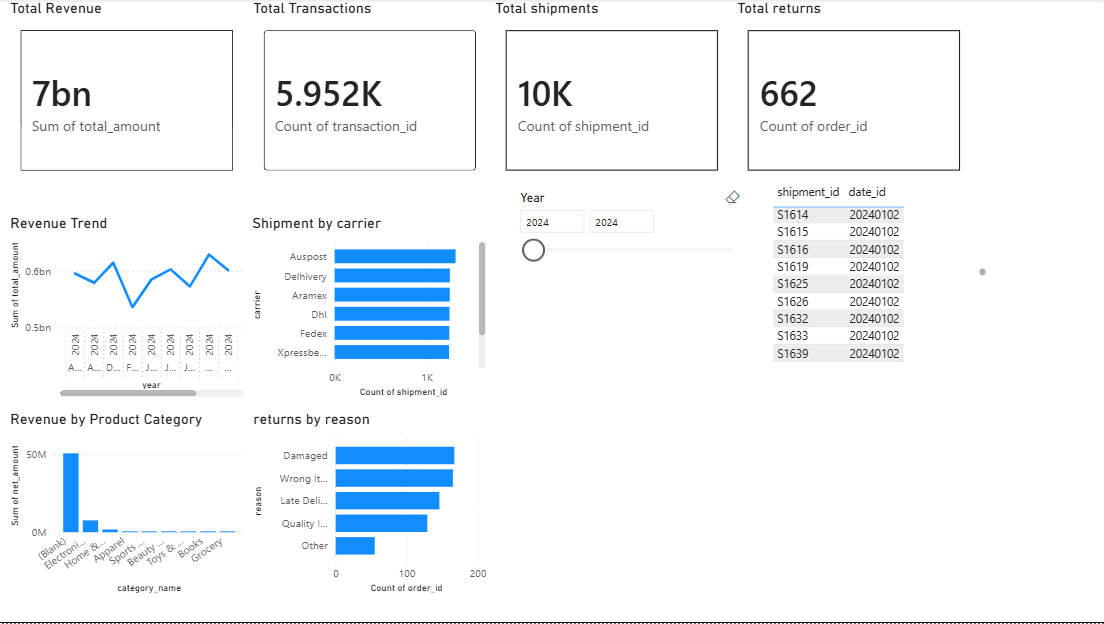

This screenshot's page, from the dashboard's own definition file:
{"tool":"powerbi","page":{"name":"Page 1","canvas":[1280,720],"ordinal":0},"visuals":[{"type":"cardVisual","title":"Total Revenue","fields":{"Data":["Sum(gold_fact_daily_orders_daily_summary.total_amount)"]},"box":[10.4,0,279.3,215.8],"z":0},{"type":"cardVisual","title":"Total Transactions","fields":{"Data":["Count(gold_fact_order_item.transaction_id)"]},"box":[290.9,0,279.3,215.8],"z":1},{"type":"cardVisual","title":"Total shipments","fields":{"Data":["CountNonNull(gold_fact_order_shipment.shipment_id)"]},"box":[570.2,0,279.3,215.8],"z":2},{"type":"cardVisual","title":"Total returns","fields":{"Data":["CountNonNull(gold_fact_der_returns.order_id)"]},"box":[849.5,0,279.3,215.8],"z":3},{"type":"lineChart","title":"Revenue Trend","fields":{"Y":["Sum(gold_fact_daily_orders_daily_summary.total_amount)"],"Category":["gold_dim_date.month_name","gold_dim_date.year"]},"box":[10,248,279,216],"z":4},{"type":"clusteredColumnChart","title":"Revenue by Product Category","fields":{"Category":["gold_dim_producs.category_name"],"Y":["Sum(gold_fact_order_item.net_amount)"]},"box":[10,474,279,216],"z":5},{"type":"barChart","title":"Shipment by carrier","fields":{"Y":["CountNonNull(gold_fact_order_shipment.shipment_id)"],"Category":["gold_fact_order_shipment.carrier"]},"box":[289.7,248.2,279.3,215.8],"z":6},{"type":"barChart","title":"returns by reason","fields":{"Category":["gold_fact_der_returns.reason"],"Y":["CountNonNull(gold_fact_der_returns.order_id)"]},"box":[291,474,279,216],"z":7},{"type":"slicer","fields":{"Values":["gold_dim_date.date.Variation.Date Hierarchy.Year"]},"box":[590.9,215.8,279.3,215.8],"z":8},{"type":"tableEx","fields":{"Values":["gold_fact_order_shipment.shipment_id","gold_fact_order_shipment.date_id"]},"box":[889.9,207.8,257.4,215.8],"z":9}]}

Visuals, with their boxes in screenshot pixels (x1, y1, x2, y2), scaled from the page's 1280x720 canvas onto the 1104x624 screenshot:
"Total Revenue" cardVisual: crop(9, 0, 250, 187)
"Total Transactions" cardVisual: crop(251, 0, 492, 187)
"Total shipments" cardVisual: crop(492, 0, 733, 187)
"Total returns" cardVisual: crop(733, 0, 974, 187)
"Revenue Trend" lineChart: crop(9, 215, 249, 402)
"Revenue by Product Category" clusteredColumnChart: crop(9, 411, 249, 598)
"Shipment by carrier" barChart: crop(250, 215, 491, 402)
"returns by reason" barChart: crop(251, 411, 492, 598)
slicer - gold_dim_date.date.Variation.Date Hierarchy.Year: crop(510, 187, 751, 374)
tableEx - gold_fact_order_shipment.shipment_id x gold_fact_order_shipment.date_id: crop(768, 180, 990, 367)
